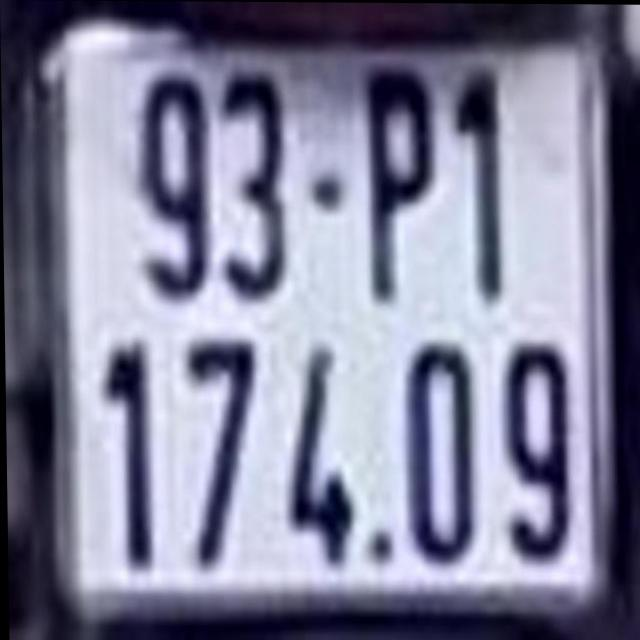0: (404, 345, 477, 558)
1: (99, 342, 154, 566), (454, 66, 500, 302)
3: (221, 69, 288, 297)
4: (286, 345, 356, 570)
7: (186, 340, 257, 565)
9: (498, 339, 571, 561), (140, 74, 214, 291)
P: (363, 67, 444, 301)
